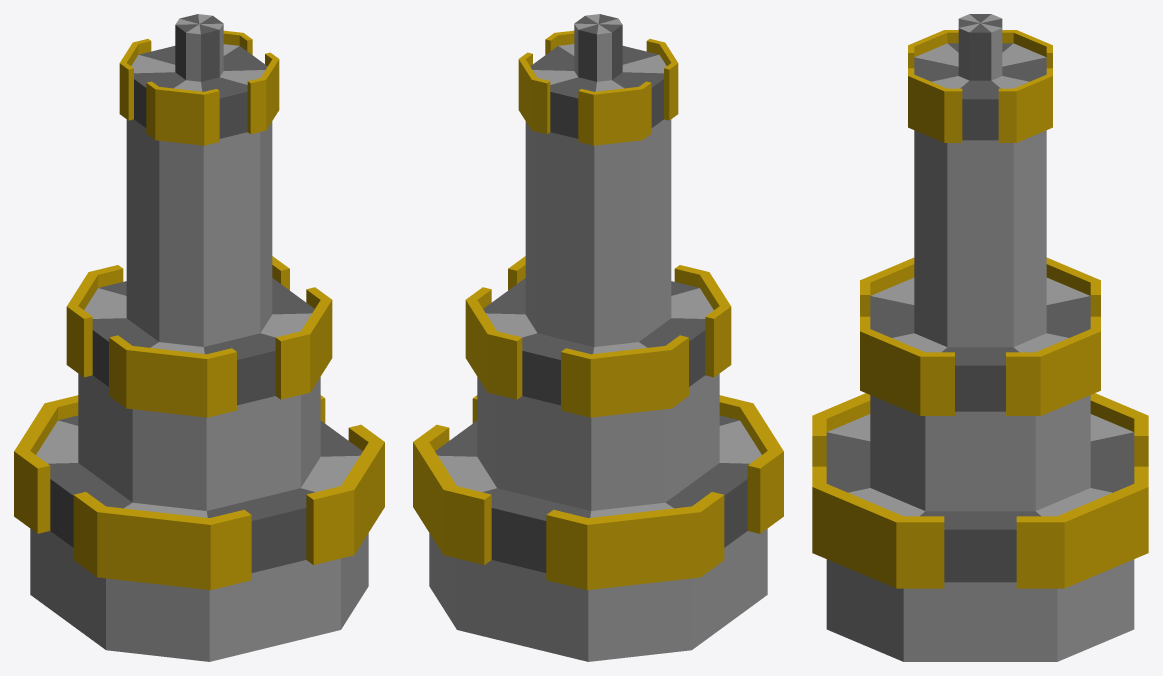
File: GADE Central tower.fbx
The picture shows the model from 3 angles, left to right: view 1: azimuth 30°, elevation 25°; view 2: azimuth 150°, elevation 25°; view 3: azimuth 270°, elevation 25°; orthographic projection.
Visible parts, largest first — view 1: Cube; view 2: Cube; view 3: Cube.
Boxes of the visible parts, box(x1,y1,x2,y2) form: Cube: box(14, 14, 384, 661); Cube: box(413, 14, 783, 661); Cube: box(812, 14, 1148, 661).
Bounding box in the file's own units: 1533 × 2883 × 1533.
